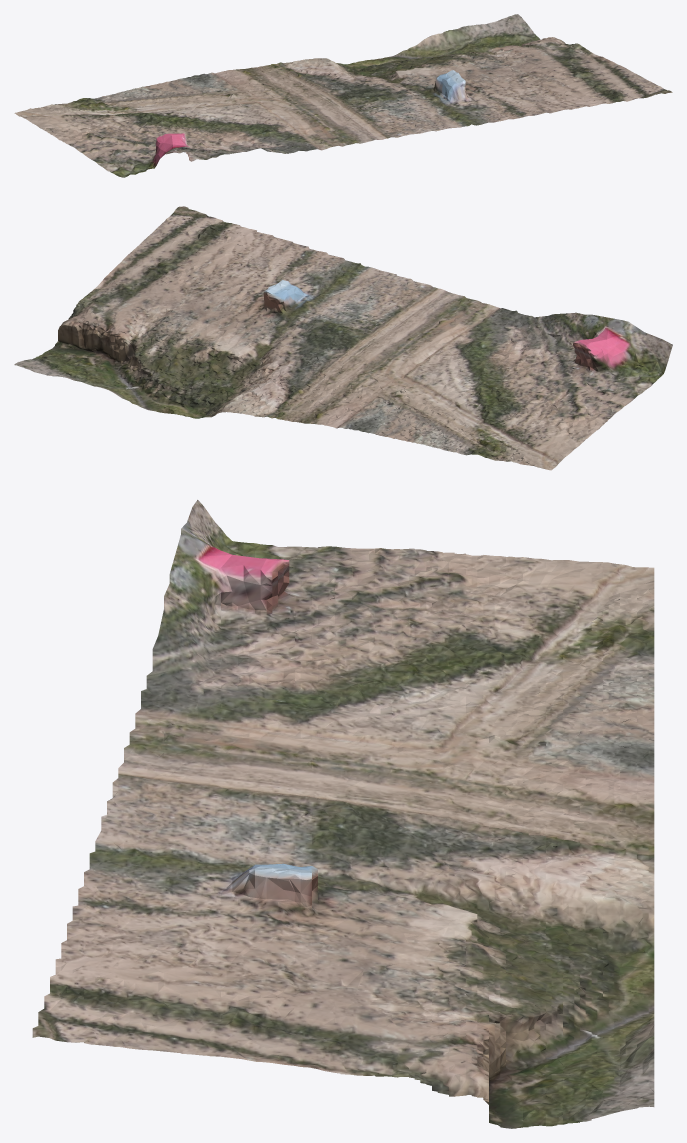
Rendered from MODELO8.glb.
3 views of the same model, one above another, from view 1: azimuth 30°, elevation 25°; view 2: azimuth 150°, elevation 25°; view 3: azimuth 270°, elevation 25° (orthographic). The views are drawn at different scales.
Bounding box in the file's own units: 102 × 15 × 54.5.
1 material, 1 textured.
